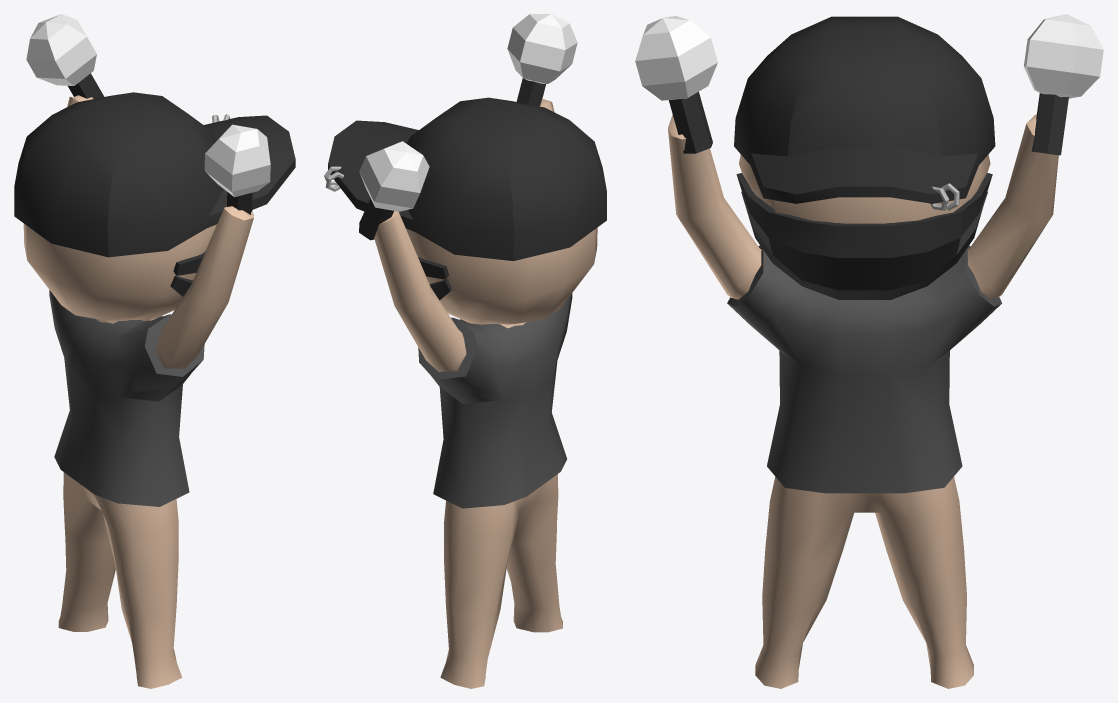
The model's file is fan_lightstick.fbx.
The picture shows the model from 3 angles, left to right: view 1: azimuth 30°, elevation 25°; view 2: azimuth 150°, elevation 25°; view 3: azimuth 270°, elevation 25°; orthographic projection. The views are drawn at different scales.
Visible parts, largest first — view 1: fanRAW, cap, pCube3, Lightstick, Lightstick1, mask; view 2: fanRAW, cap, pCube3, Lightstick1, Lightstick, mask; view 3: fanRAW, pCube3, cap, mask, Lightstick1, Lightstick.
Part boxes in pixels (<box>): fanRAW: <box>23,95,253,688</box>; cap: <box>14,92,295,257</box>; pCube3: <box>49,290,204,506</box>; Lightstick: <box>26,14,104,98</box>; Lightstick1: <box>204,124,270,214</box>; mask: <box>170,251,205,296</box>; fanRAW: <box>374,99,597,688</box>; cap: <box>328,97,606,260</box>; pCube3: <box>418,293,572,508</box>; Lightstick1: <box>507,14,577,106</box>; Lightstick: <box>359,141,429,240</box>; mask: <box>418,257,452,300</box>; fanRAW: <box>668,114,1058,688</box>; pCube3: <box>727,245,1001,493</box>; cap: <box>734,16,995,203</box>; mask: <box>736,173,992,299</box>; Lightstick1: <box>635,16,717,153</box>; Lightstick: <box>1023,14,1103,155</box>.
Bounding box in the file's own units: 0.8031 × 1.8 × 1.12.
Materials: 1 (1 with a texture image).
